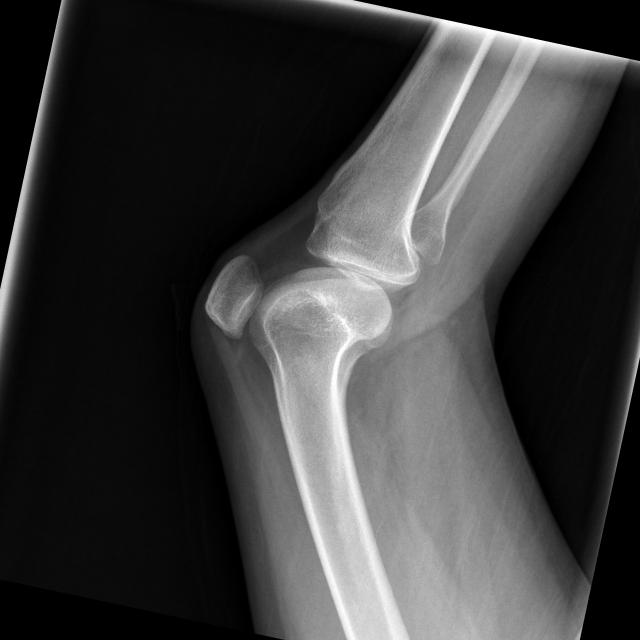Knee: (197, 176, 436, 380)
